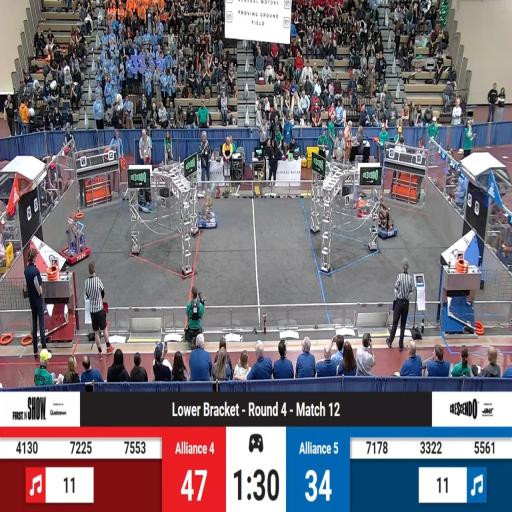robot: (62, 218, 91, 264), (369, 204, 396, 240), (198, 195, 217, 230), (355, 193, 381, 215)
